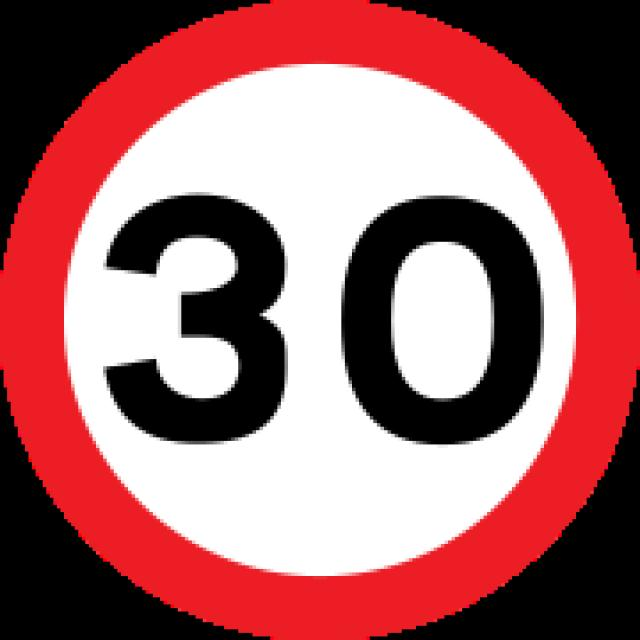Speed Limit -30-: (93, 186, 554, 458)
